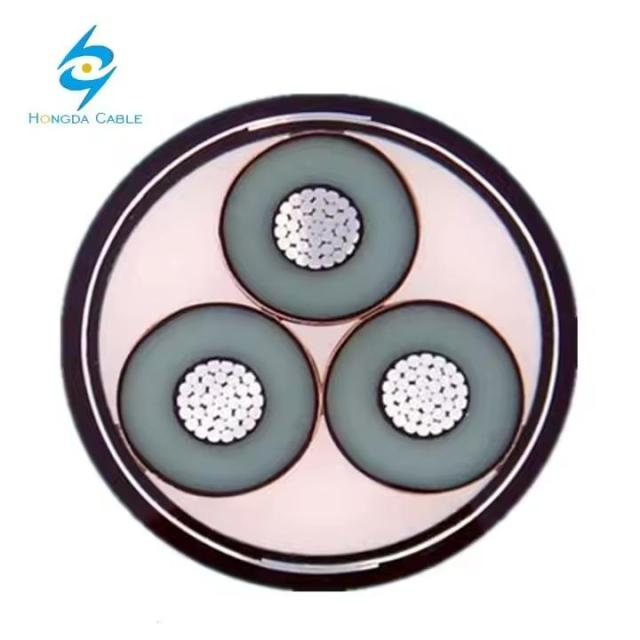wire: (408, 411, 422, 430), (324, 188, 339, 204), (182, 417, 198, 432), (421, 351, 435, 367), (220, 358, 234, 374), (207, 357, 221, 373), (248, 407, 264, 421), (248, 382, 264, 396), (301, 186, 315, 202), (196, 424, 210, 440), (444, 359, 458, 375), (429, 421, 442, 438), (176, 381, 193, 394), (380, 379, 395, 393), (337, 197, 351, 212), (220, 427, 234, 442), (195, 362, 209, 377), (408, 352, 421, 368), (273, 212, 289, 225), (444, 384, 457, 400), (384, 370, 400, 383), (346, 231, 362, 244), (384, 404, 400, 417), (417, 423, 430, 439), (452, 372, 468, 385), (178, 406, 192, 420), (228, 394, 242, 408), (314, 210, 328, 224), (285, 246, 298, 261), (335, 250, 348, 265), (295, 253, 308, 268), (208, 428, 220, 444), (432, 406, 444, 422), (411, 394, 423, 410), (406, 367, 419, 381), (274, 226, 288, 239), (320, 242, 333, 256), (455, 394, 468, 408), (276, 237, 289, 251), (302, 214, 315, 228), (429, 365, 442, 379), (287, 217, 300, 231), (344, 242, 357, 256), (419, 364, 432, 378), (223, 385, 236, 399), (428, 380, 441, 394), (201, 391, 214, 405), (324, 203, 337, 217), (333, 235, 345, 250), (417, 377, 429, 392), (397, 404, 409, 419), (202, 375, 215, 388), (174, 393, 187, 406), (207, 405, 220, 418), (395, 358, 407, 372), (215, 372, 227, 386), (336, 224, 348, 238), (408, 384, 420, 398), (227, 376, 241, 388), (336, 211, 348, 225), (230, 418, 242, 432), (239, 395, 251, 409), (184, 372, 198, 384), (217, 407, 231, 419), (279, 202, 291, 216), (423, 401, 434, 416), (442, 375, 454, 388), (192, 381, 204, 394), (381, 393, 394, 405), (313, 200, 326, 212), (304, 201, 315, 215), (432, 391, 443, 405), (301, 227, 312, 241), (396, 377, 407, 391), (433, 354, 444, 368), (192, 406, 204, 418), (236, 385, 248, 397), (188, 393, 199, 406), (288, 233, 299, 246), (214, 417, 225, 430), (323, 217, 334, 230), (210, 386, 223, 397), (223, 396, 233, 410), (312, 234, 322, 248), (234, 408, 246, 418)
